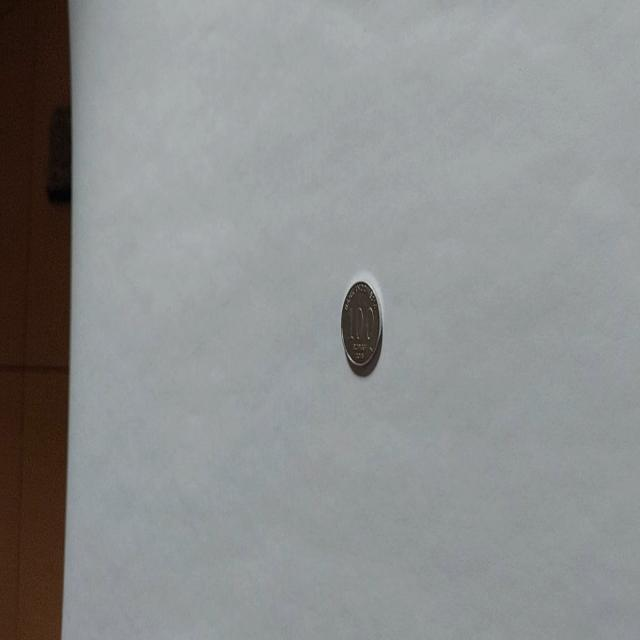seratus rupiah: (340, 278, 382, 375)
